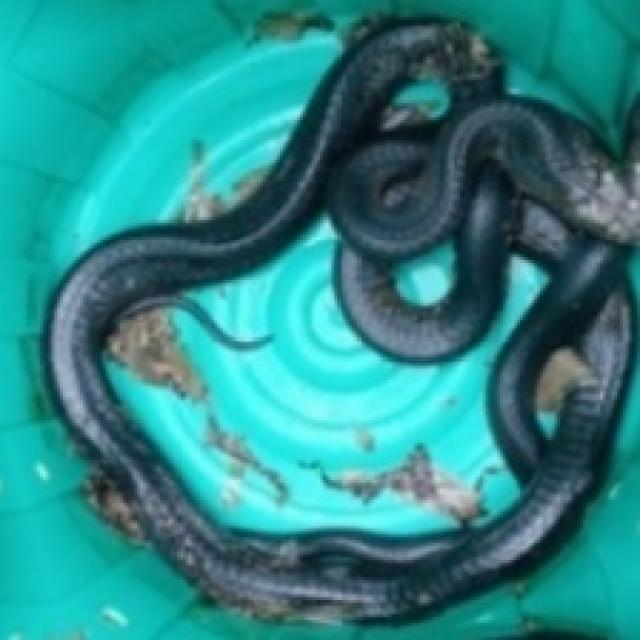king cobra: (46, 17, 637, 617)
